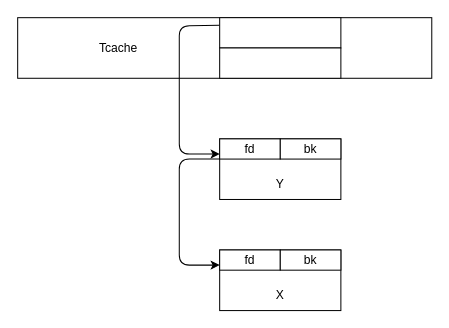
The diagram is 449 pixels wide and 328 high, and some of its shapes have lost their labels. The centre of each missing label's shape, as x and y in pixels:
"0x70 bin" goes at [280,32].
"count: 2" goes at [280,62].
